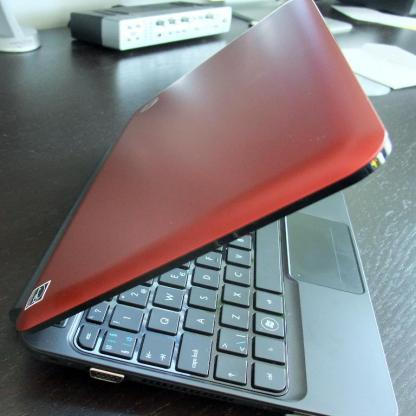board: (8, 0, 400, 416)
